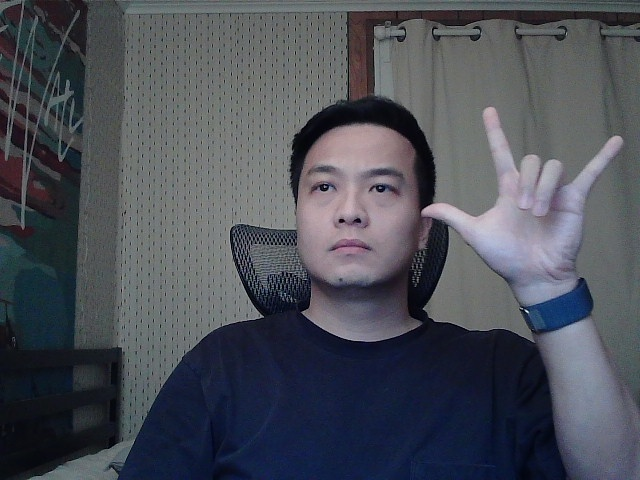I Love You: (413, 94, 633, 299)
